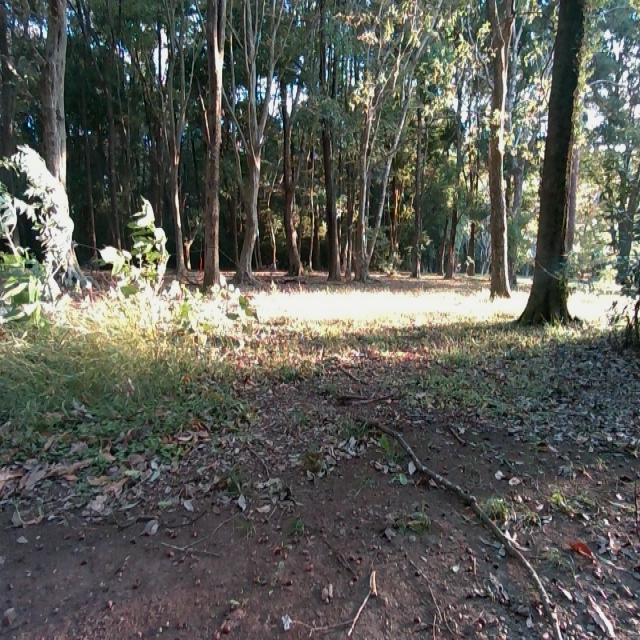bush: (3, 144, 174, 451)
tree: (520, 0, 588, 318), (233, 0, 272, 284), (49, 0, 76, 287), (492, 0, 513, 292), (204, 0, 225, 284), (283, 113, 310, 276), (325, 123, 340, 280), (352, 138, 369, 276)
